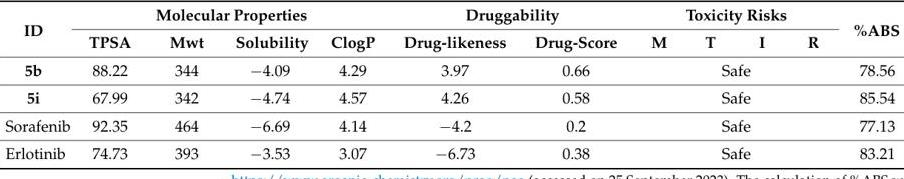table: (4, 4, 899, 174)
table column: (388, 4, 519, 174), (519, 4, 633, 174), (219, 4, 319, 174), (4, 4, 79, 174), (79, 4, 149, 174), (149, 4, 219, 174), (319, 4, 388, 174), (835, 4, 899, 174), (633, 4, 685, 174), (685, 4, 736, 174), (785, 4, 835, 174), (736, 4, 785, 174)
table column header: (4, 4, 899, 56)
table row: (4, 56, 899, 89), (4, 145, 899, 174), (4, 28, 899, 56), (4, 89, 899, 117), (4, 117, 899, 145), (4, 4, 899, 28)
table spanning cell: (79, 4, 388, 28), (633, 56, 835, 89), (388, 4, 633, 28), (633, 145, 835, 174), (633, 89, 835, 117), (633, 117, 835, 145), (633, 4, 835, 28), (4, 4, 79, 56), (835, 4, 899, 56)
